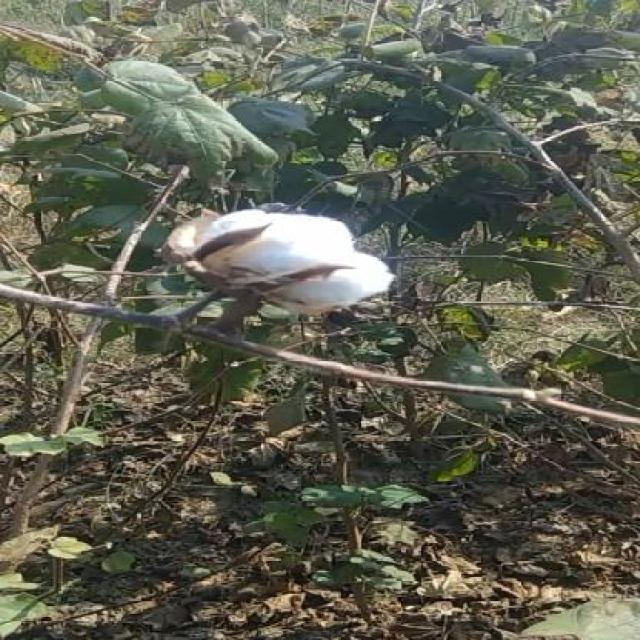cotton_ready: (126, 182, 402, 346)
